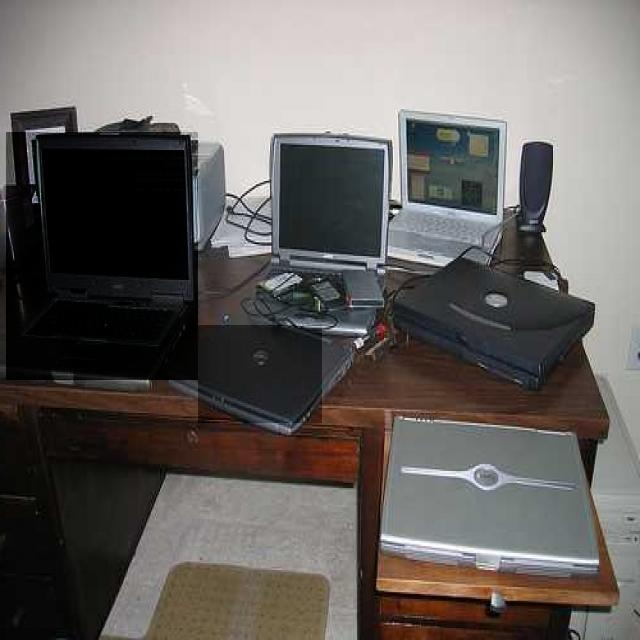-keyboard-: (7, 132, 198, 380), (394, 126, 505, 255), (198, 325, 322, 423)
